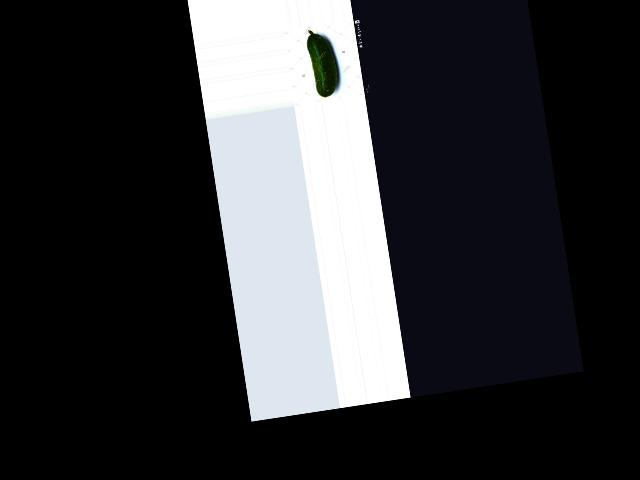cucumber: (304, 27, 340, 99)
